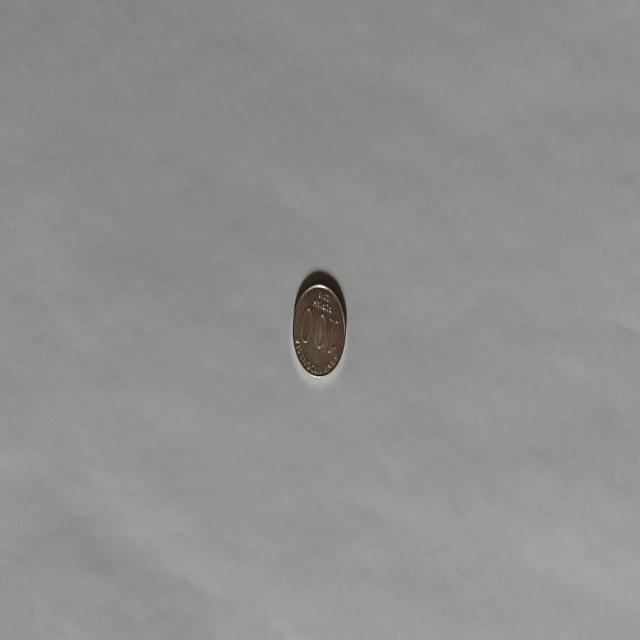seratus rupiah: (292, 280, 346, 378)
